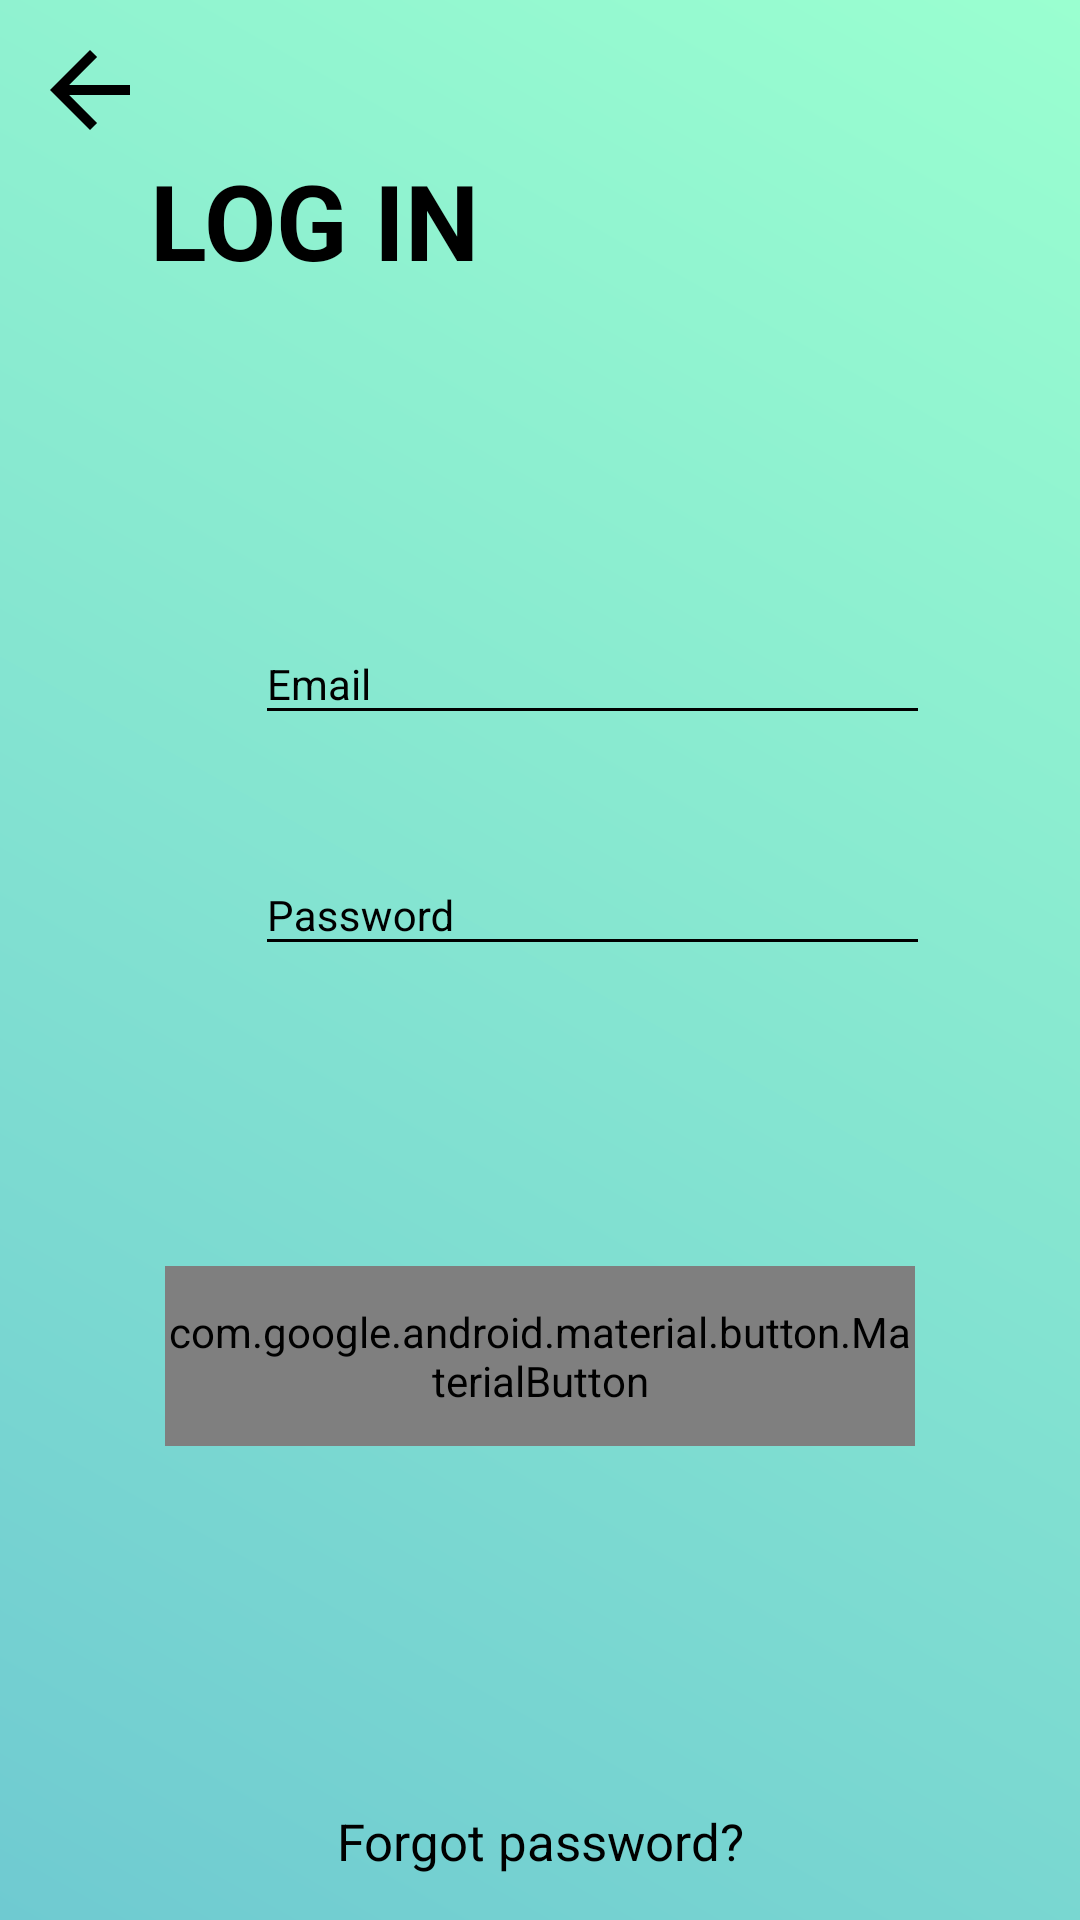

Icon bounding boxes for this 1080px x 1920px phone screenshot, format box(x1, y1, x2, y2):
arrow back: box(50, 50, 130, 130)
